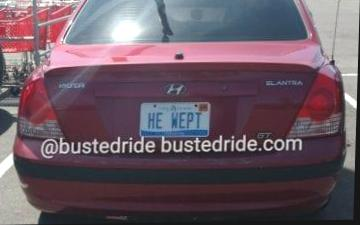License_Plate: (135, 98, 217, 141)
